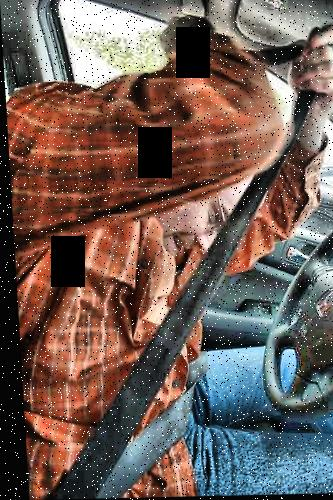seatbelt: (54, 100, 304, 470)
